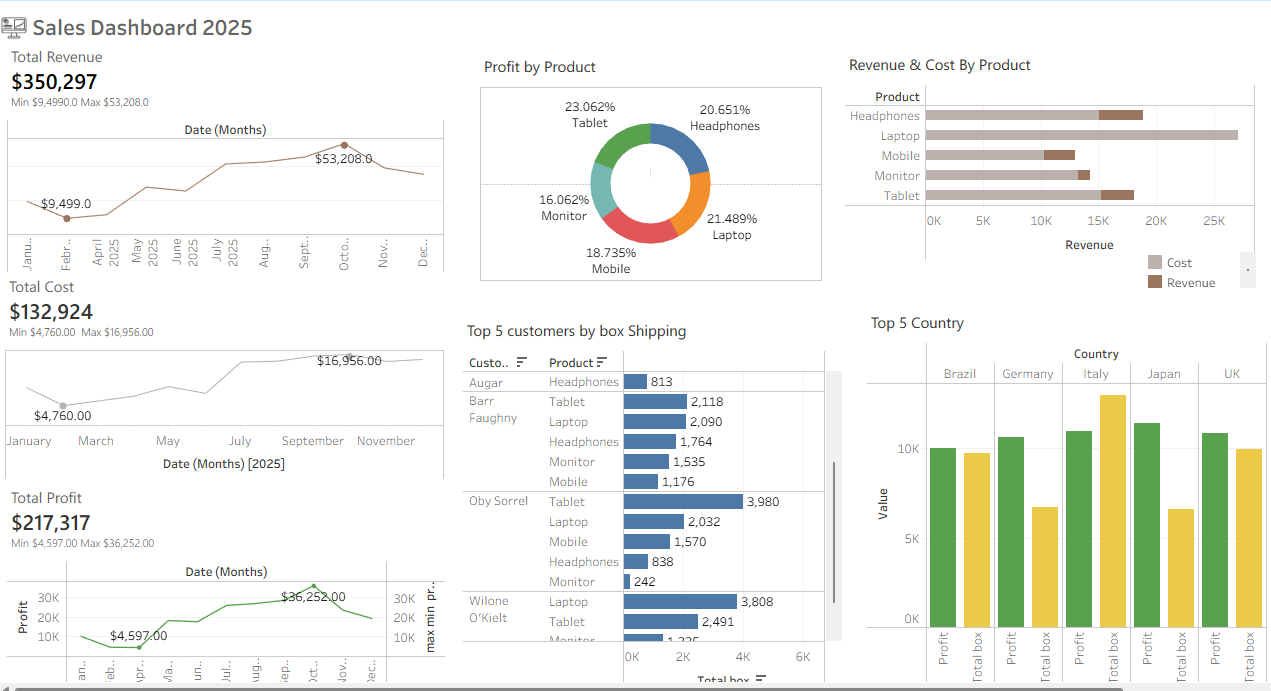

What the dashboard file says about the page in this screenshot:
{"tool":"tableau","page":{"name":"Dashboard 1","canvas":[1600,900],"ordinal":0},"visuals":[{"type":"text","box":[32,0,994,51]},{"type":"image","param":"Image/dashboard.png","box":[3,14,39,26]},{"type":"worksheet","title":"Sheet 13 (2)","mark":"Line","rows":["Revenue","max min cost (copy)_1351924321374109702"],"cols":["Date (Months)"],"box":[9,41,437,232]},{"type":"worksheet","title":"Sheet 16","mark":"Bar","rows":["Product"],"cols":["Revenue","Cost"],"box":[847,49,410,224]},{"type":"worksheet","title":"Sheet 2","mark":"Pie","rows":["Calculation_1189231784887877632","Calculation_1189231784887877632"],"box":[482,51,342,229]},{"type":"legend","title":"Sheet 16","param":"[federated.1h8g9yt0zo84u81ek3h701x9g3v6].[:Measure Names]","box":[1101,227,125,58]},{"type":"worksheet","title":"Sheet 13","mark":"Automatic","rows":["Cost","Calculation_1351924321362980866"],"cols":["Date (Months)"],"box":[7,271,439,208]},{"type":"worksheet","title":"Sheet 18","mark":"Automatic","cols":["Country"],"box":[869,307,400,380]},{"type":"worksheet","title":"Sheet 17","mark":"Automatic","rows":["Customer Name","Product"],"cols":["Total box"],"box":[465,315,379,381]},{"type":"worksheet","title":"Sheet 14","mark":"Automatic","rows":["Calculation_1765692536490041345","max min  revenue (copy)_1004302726897479681"],"cols":["Date (Months)"],"box":[9,482,439,206]}]}

Visuals, with their boxes on the page's 1600x900 design canvas (x1, y1, x2, y2). These are canvas units, not pixel positions in the 1271x691 screenshot, which may show the page scaled, cropped or inside an application window:
text: locate(32, 0, 1026, 51)
image: locate(3, 14, 42, 40)
"Sheet 13 (2)" worksheet (Line marks): locate(9, 41, 446, 273)
"Sheet 16" worksheet (Bar marks): locate(847, 49, 1257, 273)
"Sheet 2" worksheet (Pie marks): locate(482, 51, 824, 280)
"Sheet 16" legend: locate(1101, 227, 1226, 285)
"Sheet 13" worksheet: locate(7, 271, 446, 479)
"Sheet 18" worksheet: locate(869, 307, 1269, 687)
"Sheet 17" worksheet: locate(465, 315, 844, 696)
"Sheet 14" worksheet: locate(9, 482, 448, 688)
